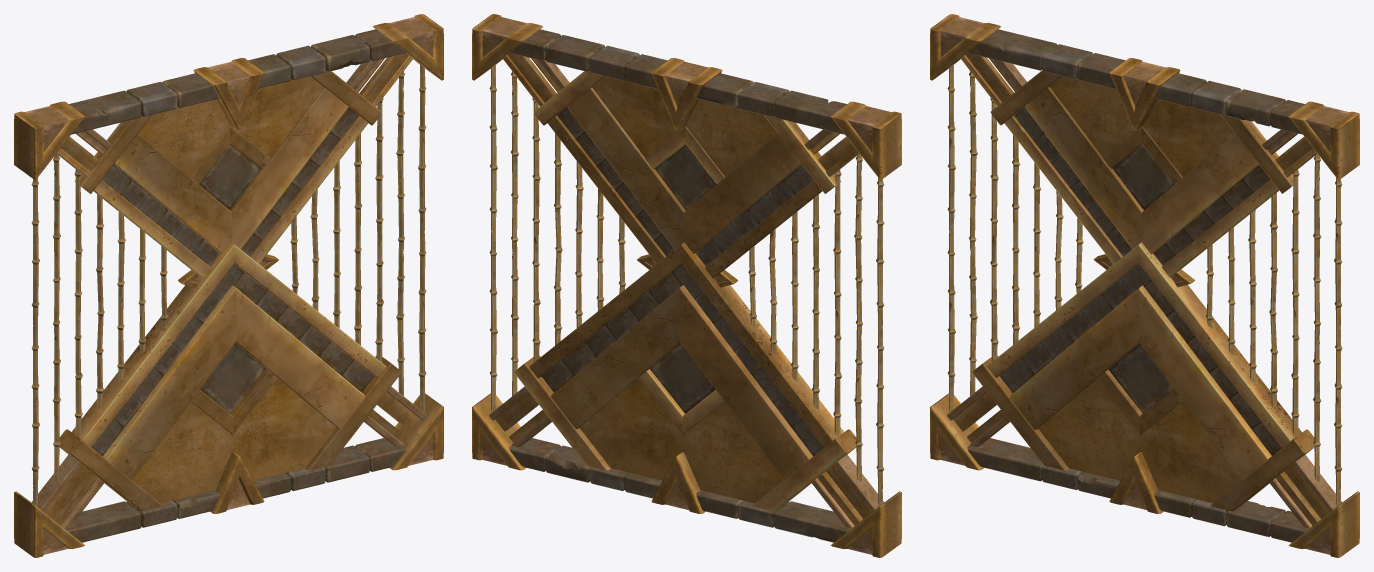
3 views of the same model, side by side, from view 1: azimuth 30°, elevation 25°; view 2: azimuth 150°, elevation 25°; view 3: azimuth 330°, elevation 25° (orthographic).
Parts seen in each view (by area): view 1: SM_Vault_4x4_Grille_02_LOD0; view 2: SM_Vault_4x4_Grille_02_LOD0; view 3: SM_Vault_4x4_Grille_02_LOD0.
Boxes of the visible parts, left/top/right/bottom form: SM_Vault_4x4_Grille_02_LOD0: left=14, top=14, right=443, bottom=557; SM_Vault_4x4_Grille_02_LOD0: left=472, top=14, right=901, bottom=557; SM_Vault_4x4_Grille_02_LOD0: left=930, top=14, right=1359, bottom=557.
Size of the model in its own units: 4 by 4 by 0.3665.
Materials: 2 (2 with a texture image).
